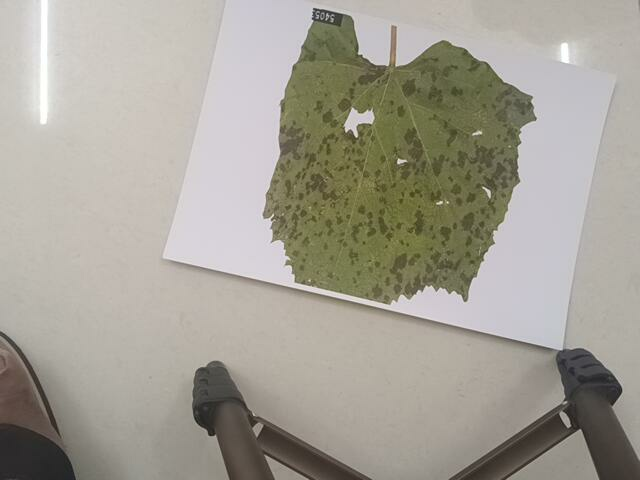Grape_Blight_Leaf: (261, 9, 543, 302)
